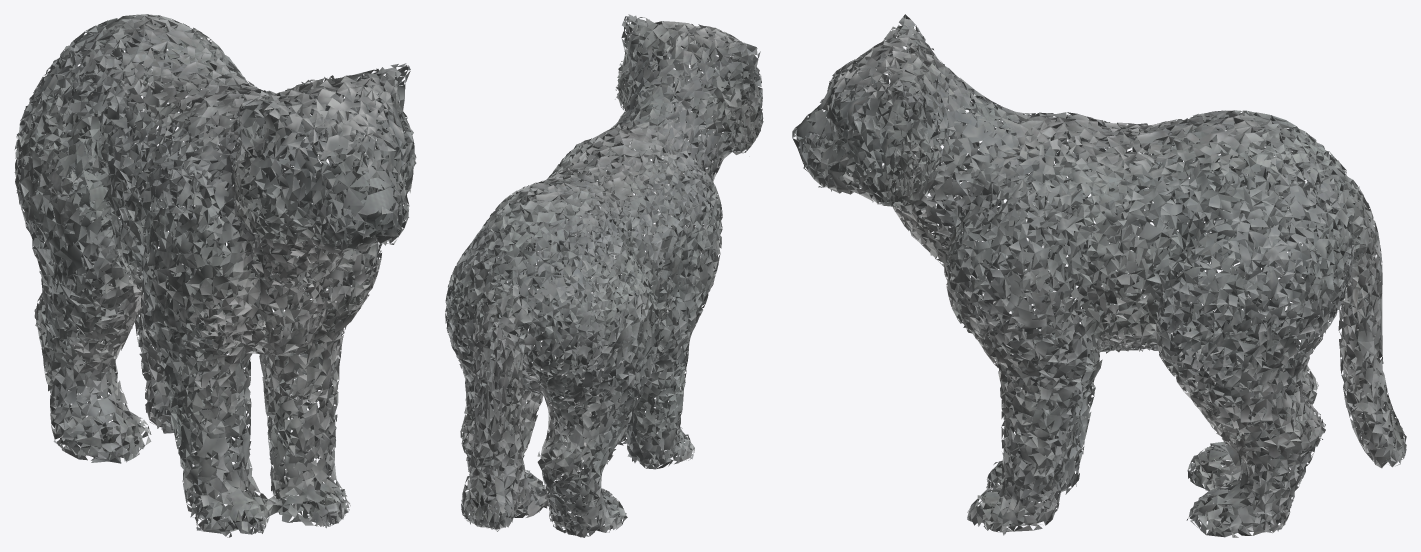
3 renders of one model, left to right at view 1: azimuth 30°, elevation 25°; view 2: azimuth 150°, elevation 25°; view 3: azimuth 270°, elevation 25°, orthographic. The views are drawn at different scales.
Parts seen in each view (by area): view 1: world; view 2: world; view 3: world.
Part boxes in pixels (<box>): world: <box>14,14,416,537</box>; world: <box>445,14,763,537</box>; world: <box>792,14,1406,537</box>.
Bounding box in the file's own units: 0.3844 × 0.8114 × 0.9991.
Materials: 1 (1 with a texture image).
